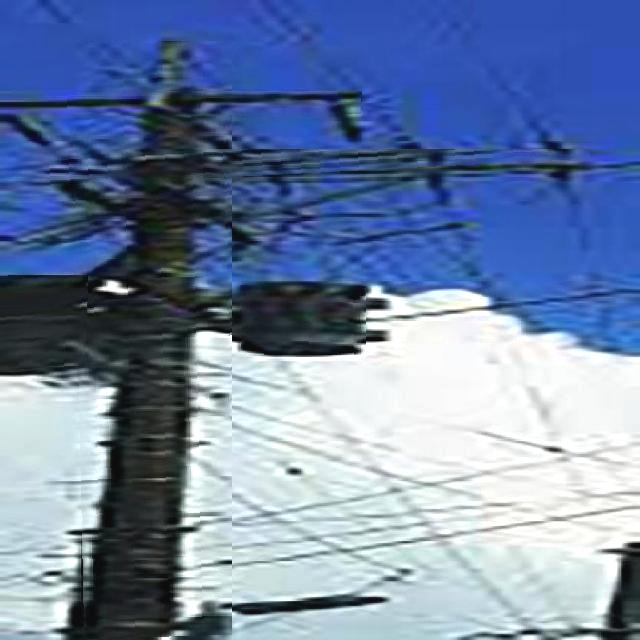crossarm: (40, 149, 590, 187), (0, 91, 362, 117)
pole: (79, 41, 232, 639)
transformer: (241, 285, 366, 355), (0, 275, 88, 371)
